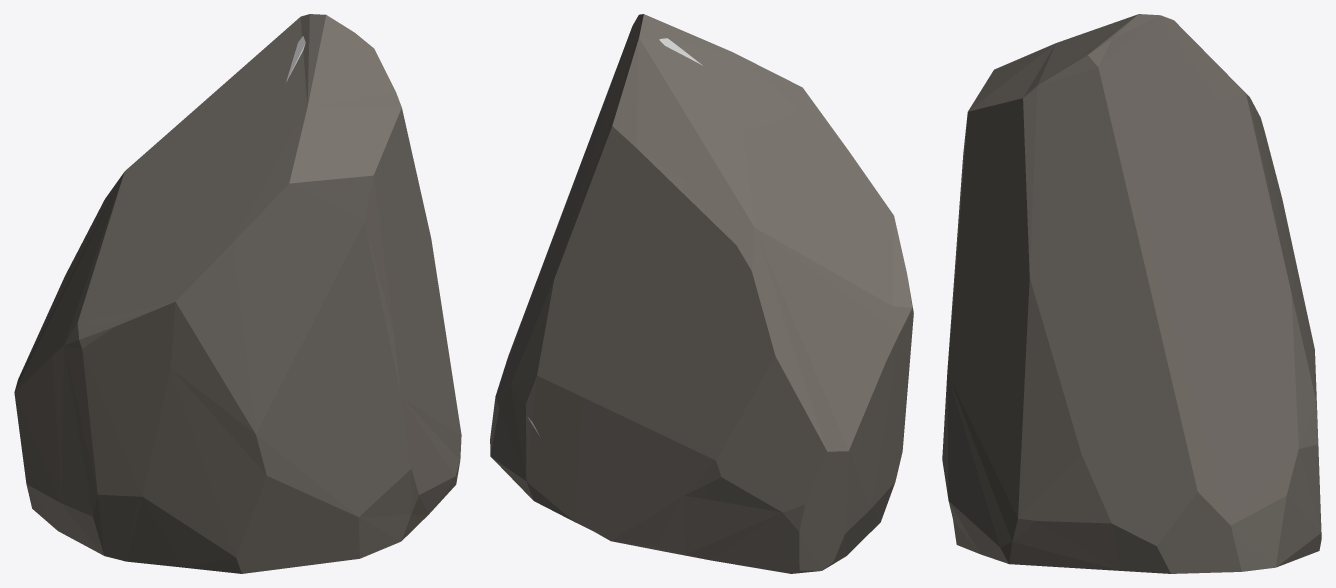
The model's file is SM_Env_Rock_01.fbx.
The picture shows the model from 3 angles, left to right: view 1: azimuth 30°, elevation 25°; view 2: azimuth 150°, elevation 25°; view 3: azimuth 270°, elevation 25°; orthographic projection. The views are drawn at different scales.
Parts seen in each view (by area): view 1: SM_Env_Rock_01; view 2: SM_Env_Rock_01; view 3: SM_Env_Rock_01.
Boxes of the visible parts, x1,y1,x2,y2 form: SM_Env_Rock_01: (14, 14, 461, 573); SM_Env_Rock_01: (490, 14, 913, 573); SM_Env_Rock_01: (942, 14, 1321, 573).
Size of the model in its own units: 481 by 362 by 577.
2 materials, 1 textured.
